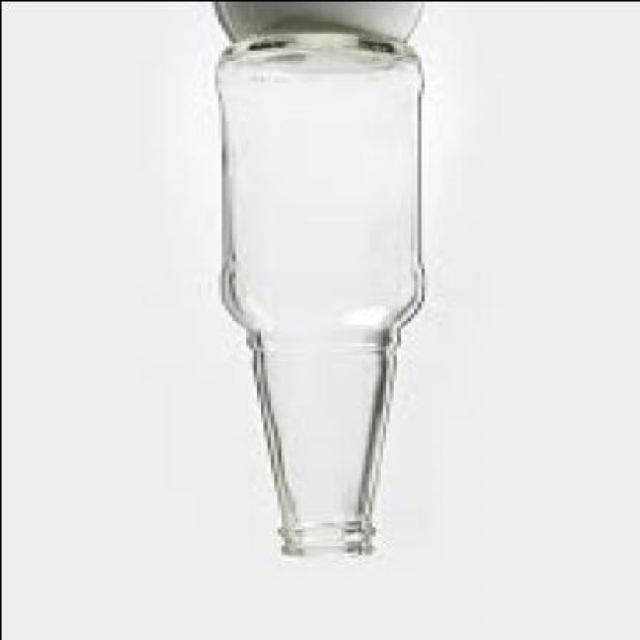glass: (217, 28, 431, 558)
